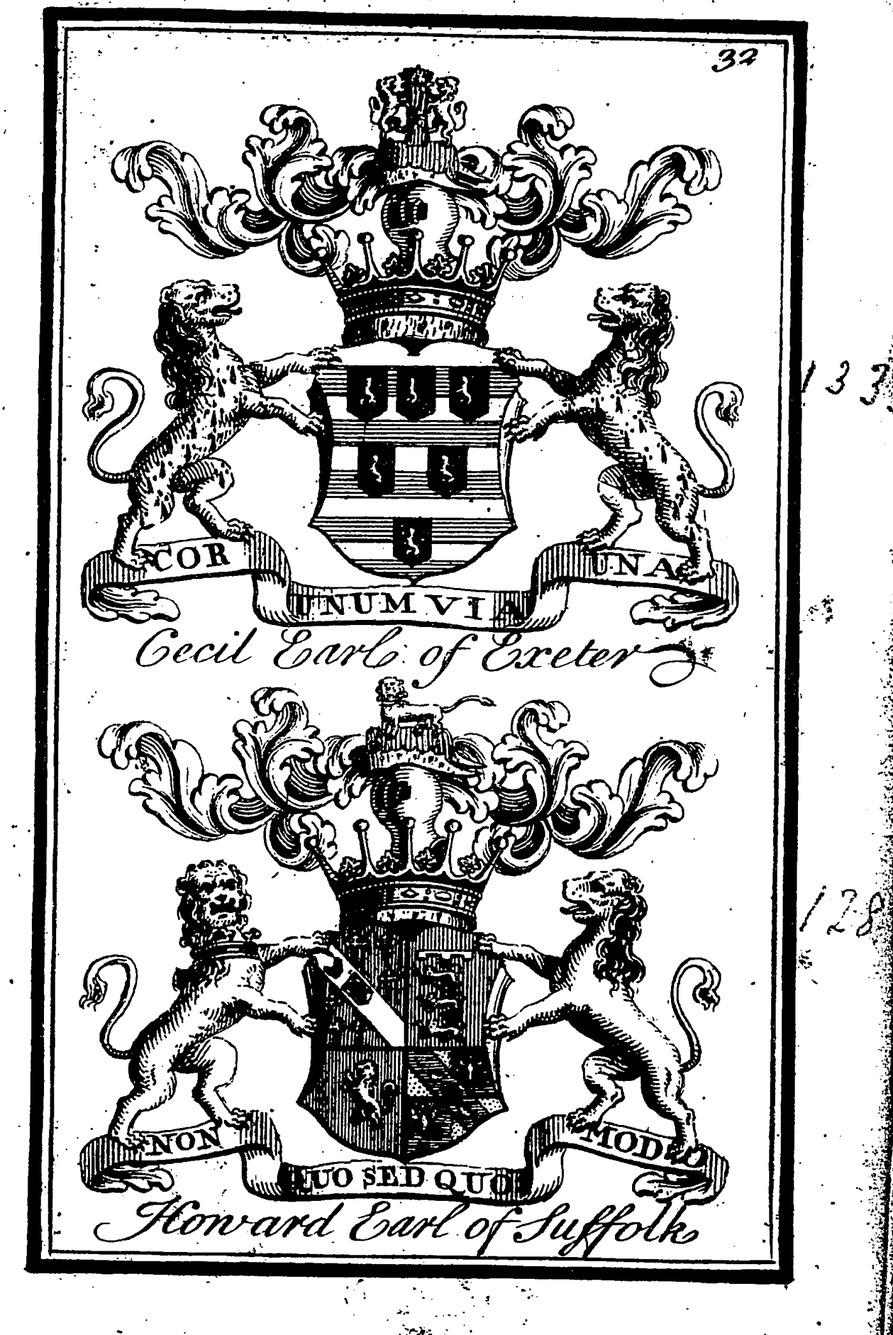coat_of_arms: (85, 48, 741, 688), (71, 678, 739, 1253)
